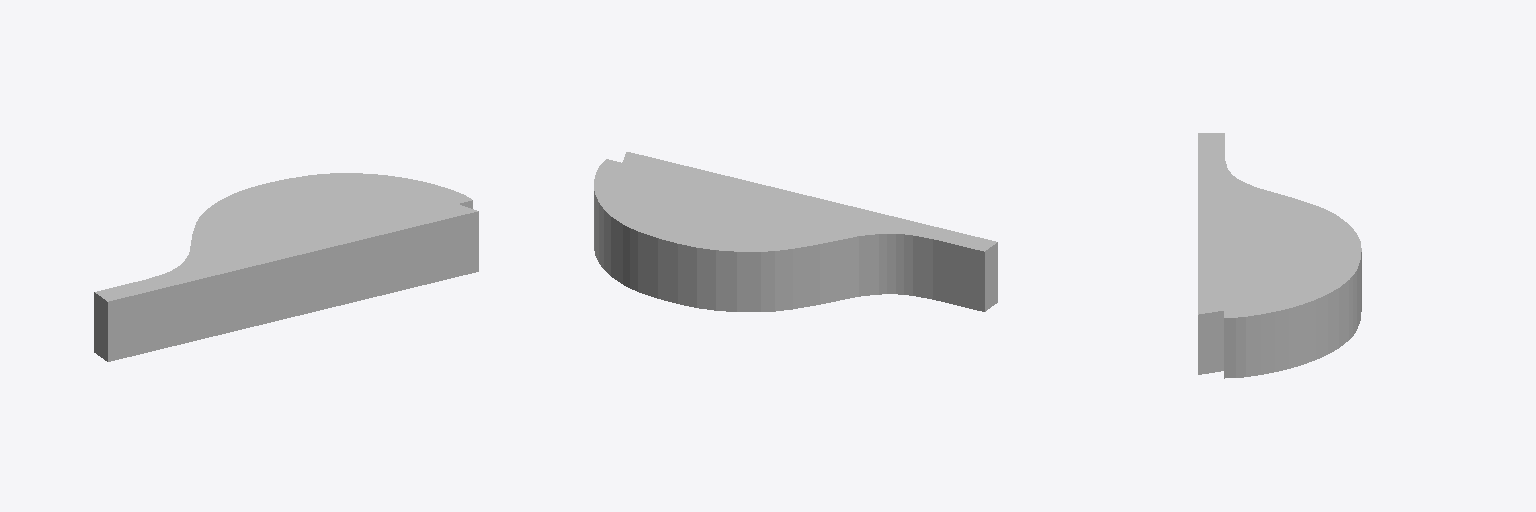
The model's file is TOOLS_Templates_TireTool_Cut_Outs.obj.
3 renders of one model, left to right at view 1: azimuth 30°, elevation 25°; view 2: azimuth 150°, elevation 25°; view 3: azimuth 270°, elevation 25°, orthographic.
Parts seen in each view (by area): view 1: object_1; view 2: object_1; view 3: object_1.
Boxes of the visible parts, x1=… form: object_1: x1=94, y1=173, x2=478, y2=361; object_1: x1=594, y1=152, x2=997, y2=311; object_1: x1=1198, y1=133, x2=1361, y2=378.
Bounding box in the file's own units: 65.41 × 10 × 24.47.